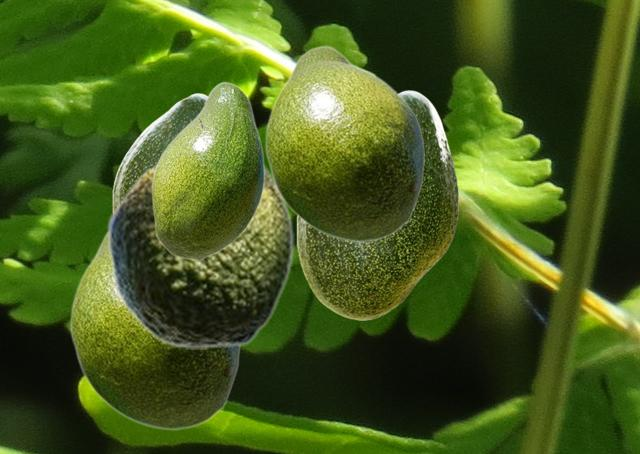avocado: (296, 90, 457, 319), (106, 158, 293, 348), (69, 233, 240, 430), (264, 45, 424, 242), (151, 81, 264, 260), (112, 93, 206, 210)
